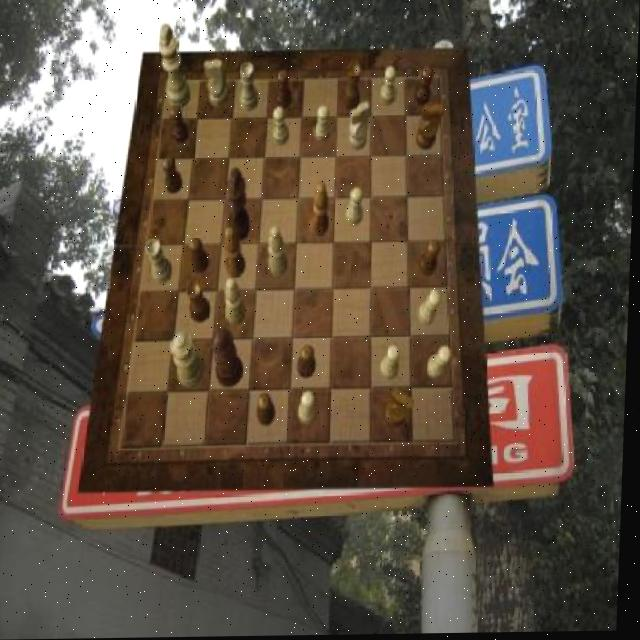bishop: (226, 228, 250, 281), (311, 182, 332, 237)
black-bishop: (227, 168, 253, 243)
black-king: (387, 389, 419, 431), (417, 106, 445, 151)
black-knight: (190, 237, 213, 274), (163, 156, 184, 195), (170, 105, 191, 144), (421, 241, 443, 277), (415, 69, 434, 107), (260, 394, 280, 428), (300, 347, 320, 381), (277, 71, 294, 111)
black-pawn: (213, 329, 249, 390)
black-queen: (187, 280, 213, 323), (343, 64, 362, 113)
black-rook: (269, 227, 291, 278), (226, 280, 248, 328)
white-bishop: (156, 24, 194, 110)
white-king: (205, 61, 230, 108), (349, 104, 371, 153)
white-knight: (430, 347, 455, 381), (420, 291, 443, 326), (383, 346, 404, 381), (274, 107, 292, 146), (301, 391, 321, 426), (347, 188, 365, 226), (381, 68, 398, 108), (314, 105, 331, 143)
white-pawn: (172, 330, 209, 388)
white-queen: (149, 238, 176, 284), (240, 63, 260, 113)
